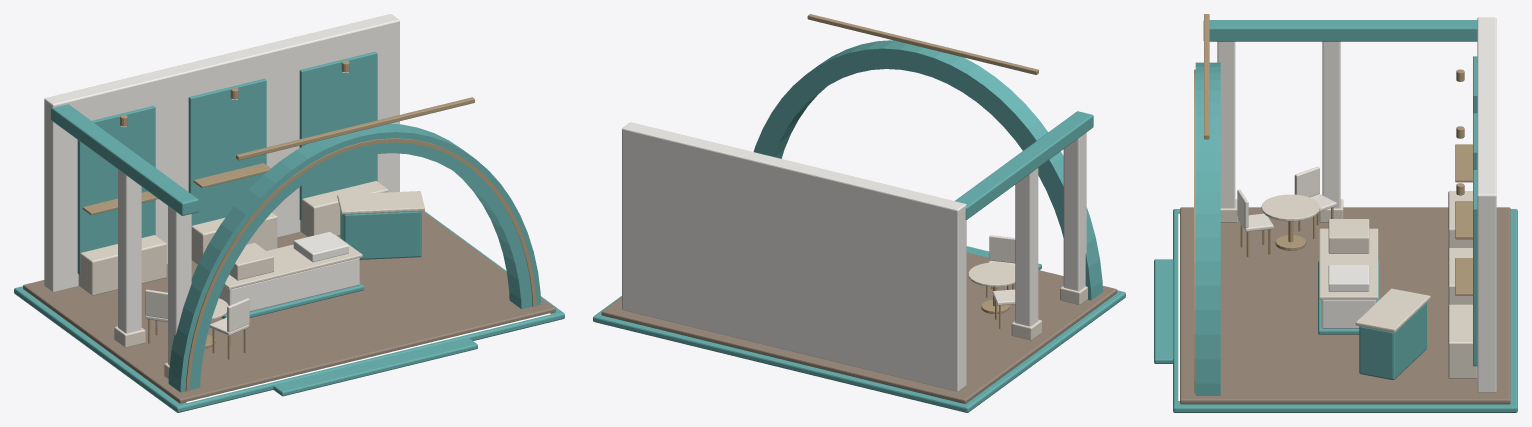
The model's file is booth_05_gallery_arch_v27_4.glb.
3 views of the same model, side by side, from view 1: azimuth 30°, elevation 25°; view 2: azimuth 150°, elevation 25°; view 3: azimuth 270°, elevation 25° (orthographic). The views are drawn at different scales.
Visible parts, largest first — view 1: MatGroup_ArchitecturalTeal, MatGroup_LimestonePlaster, MatGroup_SmokedOakFloor, MatGroup_NaturalSandstone, MatGroup_GalleryBronze, MatGroup_WarmLinen, MatGroup_GallerySpotGlow; view 2: MatGroup_LimestonePlaster, MatGroup_ArchitecturalTeal, MatGroup_SmokedOakFloor, MatGroup_GalleryBronze, MatGroup_NaturalSandstone, MatGroup_WarmLinen; view 3: MatGroup_SmokedOakFloor, MatGroup_ArchitecturalTeal, MatGroup_LimestonePlaster, MatGroup_NaturalSandstone, MatGroup_GalleryBronze, MatGroup_WarmLinen, MatGroup_GallerySpotGlow.
Boxes of the visible parts, x1,y1,x2,y2 form: MatGroup_ArchitecturalTeal: (14,51,564,412); MatGroup_LimestonePlaster: (44,14,399,364); MatGroup_SmokedOakFloor: (23,211,555,403); MatGroup_NaturalSandstone: (78,181,424,379); MatGroup_GalleryBronze: (82,60,536,391); MatGroup_WarmLinen: (145,289,249,335); MatGroup_GallerySpotGlow: (121,72,550,402); MatGroup_LimestonePlaster: (622,122,1086,391); MatGroup_ArchitecturalTeal: (593,40,1125,412); MatGroup_SmokedOakFloor: (601,252,1117,403); MatGroup_GalleryBronze: (807,14,1038,328); MatGroup_NaturalSandstone: (968,262,1087,340); MatGroup_WarmLinen: (989,235,1015,305); MatGroup_SmokedOakFloor: (1180,207,1510,404); MatGroup_ArchitecturalTeal: (1154,20,1517,412); MatGroup_LimestonePlaster: (1217,17,1496,392); MatGroup_NaturalSandstone: (1220,191,1477,378); MatGroup_GalleryBronze: (1194,14,1472,393); MatGroup_WarmLinen: (1237,166,1336,231); MatGroup_GallerySpotGlow: (1178,81,1463,400).
Bounding box in the file's own units: 6.72 × 3.78 × 5.19.
